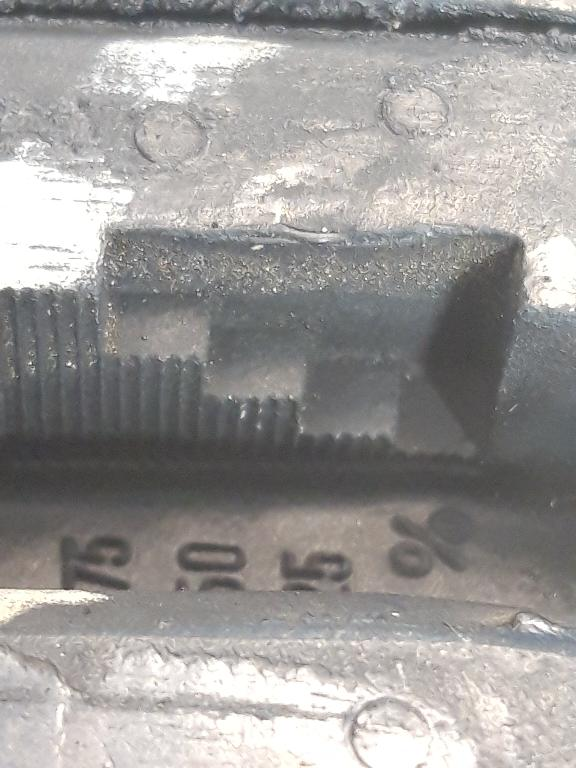temoin:100: (40, 219, 526, 482)
